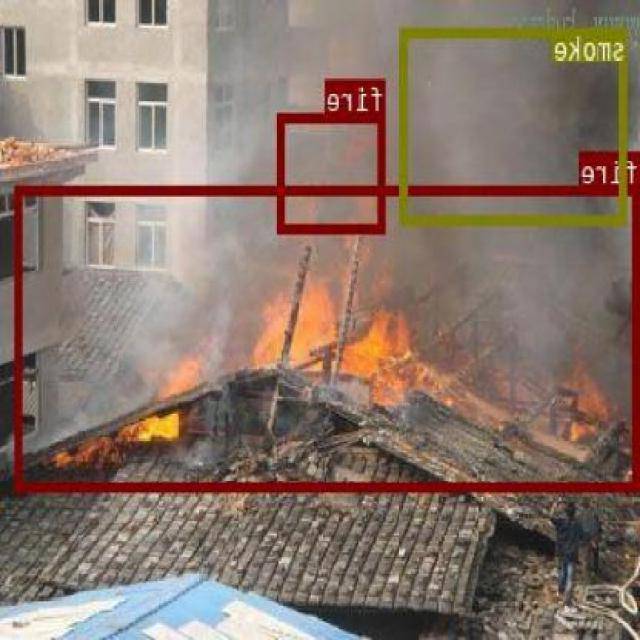Fire: (15, 183, 640, 489), (279, 112, 387, 231)
Smoke: (402, 27, 628, 224)
